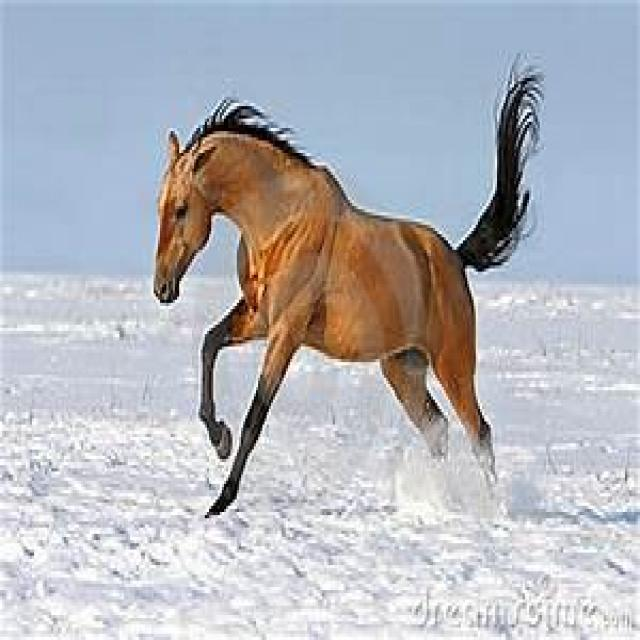animal: (158, 119, 516, 524)
